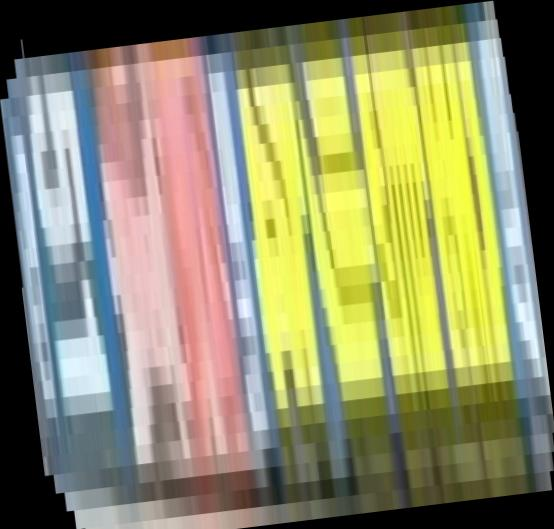flat: (1, 1, 554, 529)
